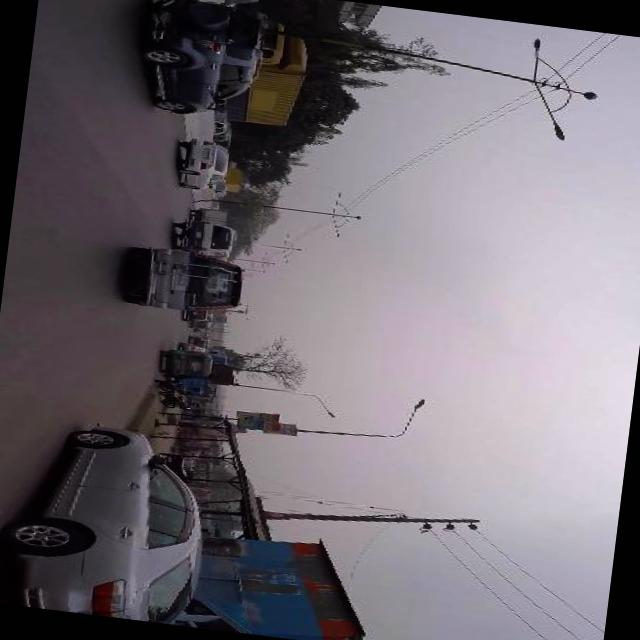car: (0, 411, 221, 627), (136, 0, 272, 127), (170, 136, 232, 196), (182, 310, 210, 324), (186, 335, 212, 349)
motorcycle: (159, 347, 216, 379), (152, 378, 204, 399), (159, 392, 205, 413)
truck: (221, 5, 315, 130), (122, 242, 250, 320), (170, 218, 237, 262), (188, 207, 230, 227), (225, 168, 244, 195)
